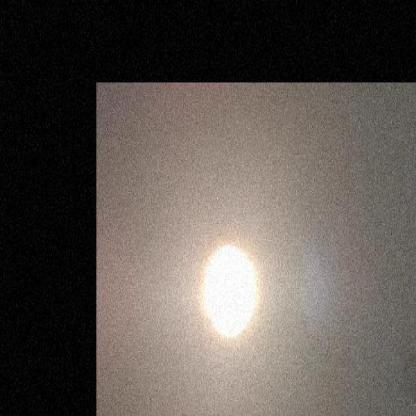light_on: (185, 197, 273, 360)
